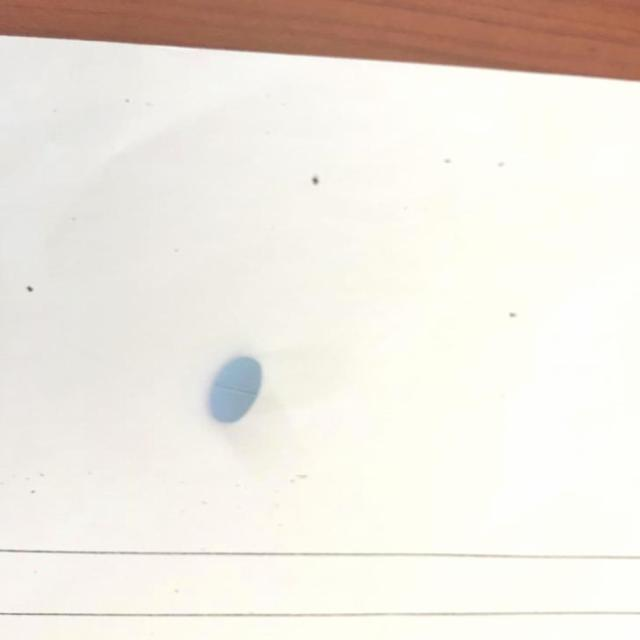pill: (203, 356, 271, 424)
